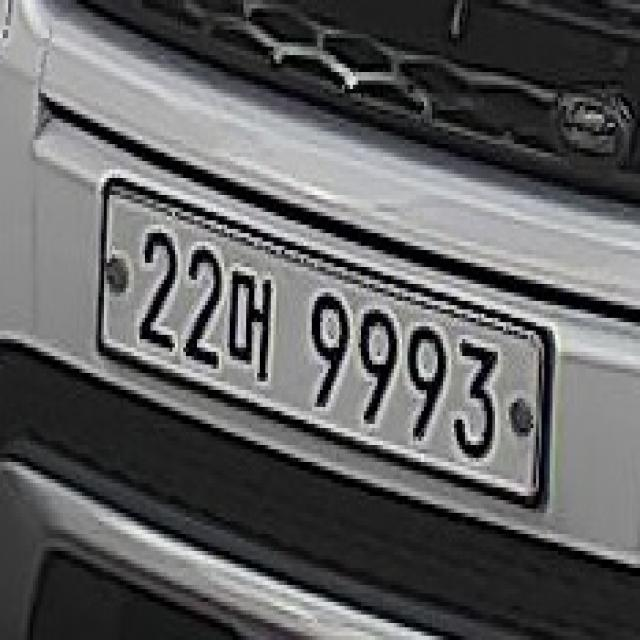2: (134, 221, 183, 358), (182, 232, 226, 376)
3: (442, 328, 507, 470)
9: (399, 311, 456, 449), (351, 295, 405, 429), (304, 280, 356, 418)
license_plate: (100, 184, 544, 498)
meo: (227, 254, 283, 394)
